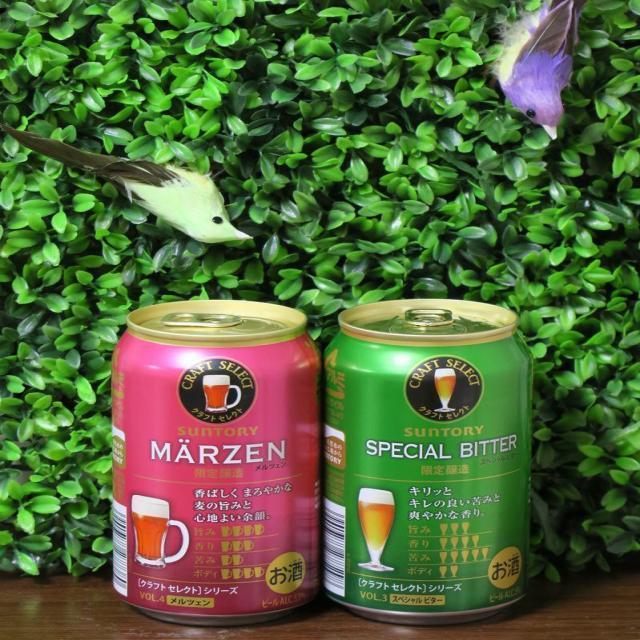metal-can: (113, 297, 333, 627), (323, 293, 537, 626)
